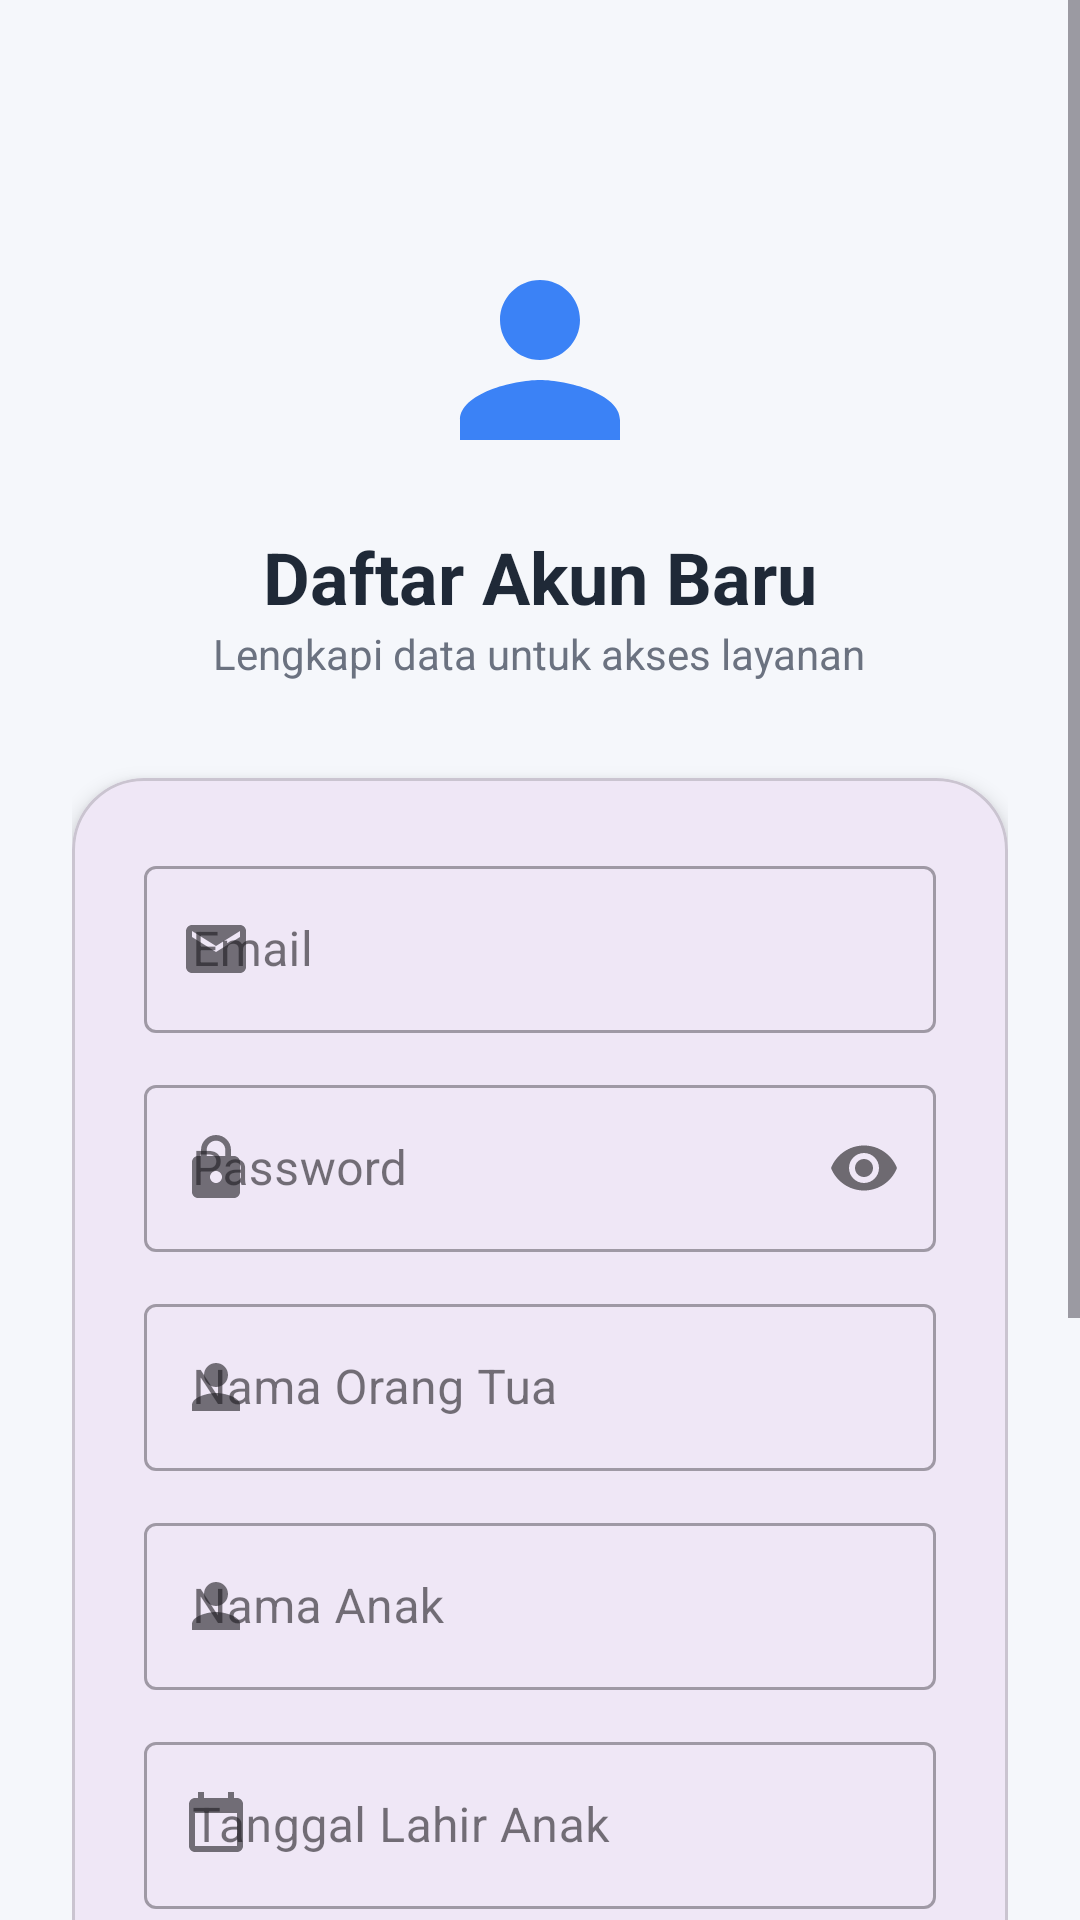

Point at icon controls on the screen. Image size 1080×1920, points as (x=x, y=y).
Register Icon: (x=540, y=360)
